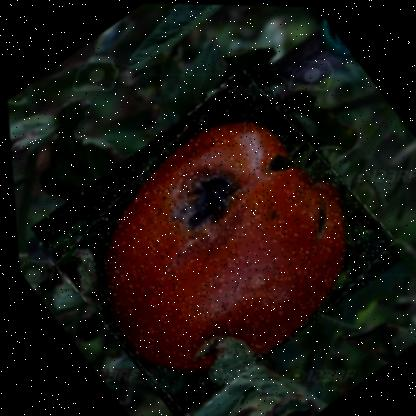tomato_rotten: (15, 60, 410, 415)
